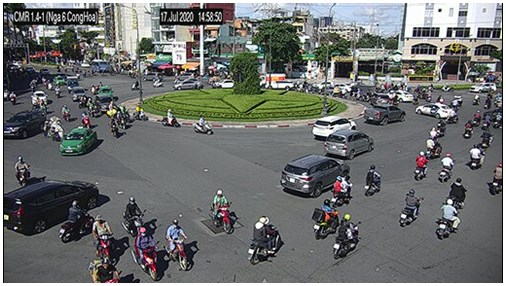xe_hoi: (4, 181, 100, 232), (280, 154, 350, 199), (326, 130, 375, 158), (4, 110, 47, 140), (312, 116, 356, 137), (365, 104, 405, 125), (415, 101, 455, 119), (468, 81, 497, 92), (387, 89, 411, 102), (266, 80, 293, 91), (171, 80, 196, 90), (215, 79, 236, 87)
xe_may: (248, 216, 282, 265), (60, 200, 93, 244), (133, 228, 160, 281), (333, 213, 361, 259), (165, 219, 190, 270), (92, 214, 115, 260), (314, 199, 338, 240), (211, 189, 231, 235), (88, 258, 122, 283), (437, 198, 457, 239), (400, 189, 420, 228), (123, 197, 142, 235), (447, 178, 468, 211), (334, 173, 352, 207), (364, 164, 381, 196), (438, 152, 454, 183), (470, 142, 487, 171), (413, 150, 428, 182), (192, 116, 213, 138), (490, 161, 502, 196), (425, 137, 442, 160), (15, 155, 28, 185), (162, 108, 179, 127), (481, 128, 494, 150), (132, 104, 148, 121), (115, 109, 127, 131), (110, 115, 120, 139), (80, 111, 91, 130), (464, 119, 473, 139), (472, 109, 482, 127), (428, 125, 437, 144), (61, 104, 71, 121), (77, 95, 92, 106), (494, 112, 503, 128), (153, 78, 165, 89), (9, 90, 17, 106), (54, 82, 61, 100), (483, 113, 490, 129), (39, 98, 46, 113), (44, 80, 53, 91), (29, 78, 36, 92), (33, 96, 41, 108), (131, 80, 139, 91), (472, 94, 481, 103)
